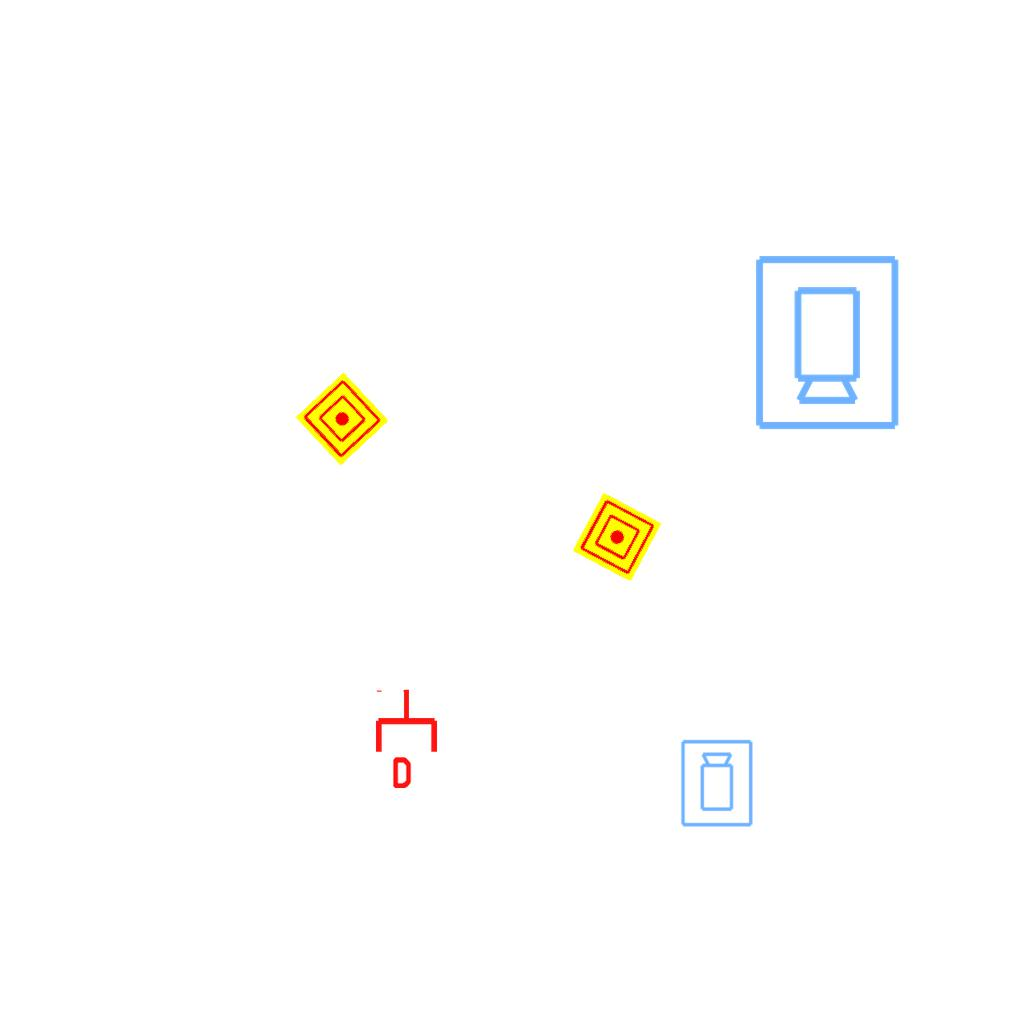Datenanschluss_einfach: (372, 688, 441, 788)
KFO_Kamera_mit_Festobjektiv: (749, 251, 903, 433), (679, 738, 756, 829)
NAM-Nichtautomatischer_Melder: (295, 372, 389, 466), (572, 492, 662, 582)
